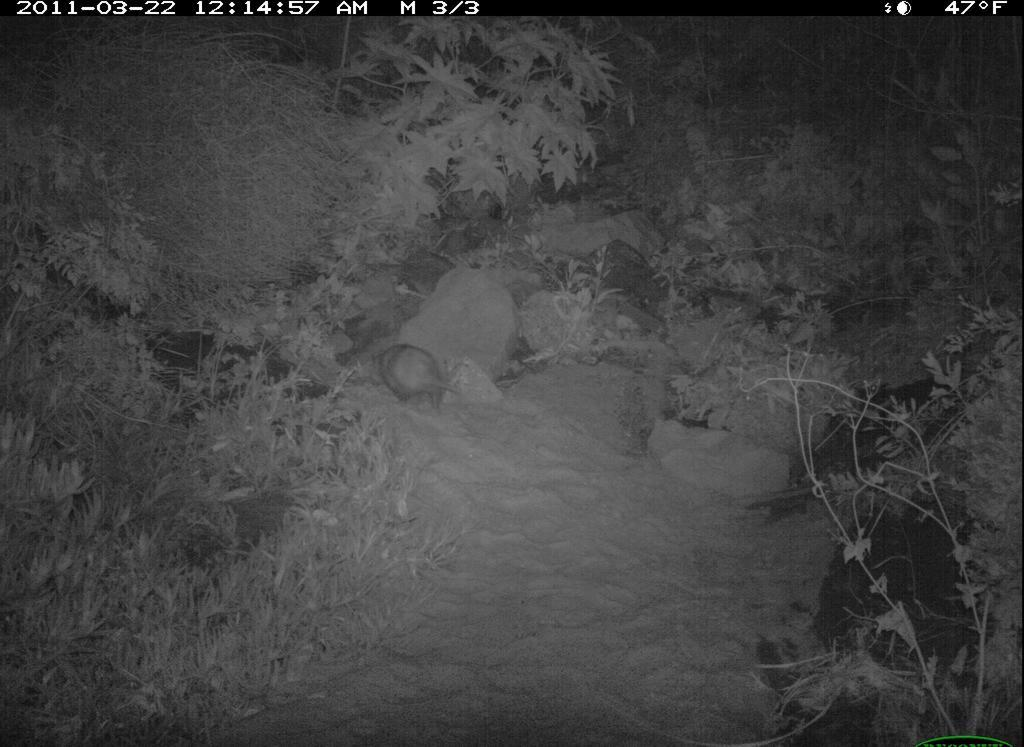opossum: (367, 332, 477, 433)
